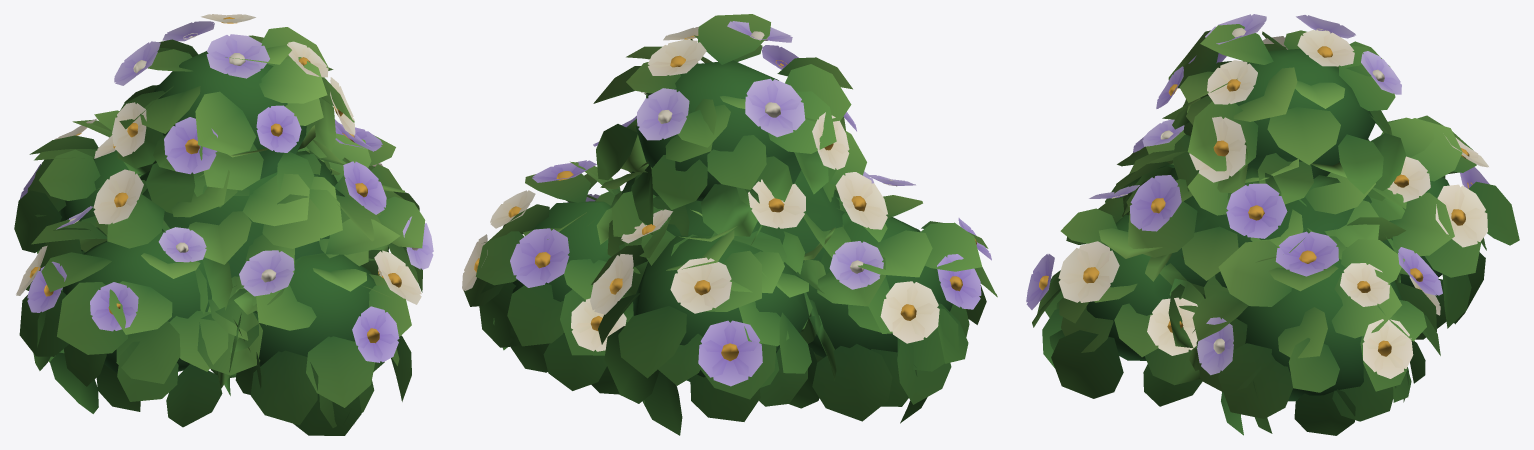
Rendered from bush_flower_b.glb.
3 views of the same model, side by side, from view 1: azimuth 30°, elevation 25°; view 2: azimuth 150°, elevation 25°; view 3: azimuth 270°, elevation 25° (orthographic). The views are drawn at different scales.
Parts seen in each view (by area): view 1: bush_flower_b; view 2: bush_flower_b; view 3: bush_flower_b.
Boxes of the visible parts, box(x1,y1,x2,y2) form: bush_flower_b: box(14, 14, 433, 435); bush_flower_b: box(462, 14, 997, 435); bush_flower_b: box(1026, 14, 1519, 435).
Size of the model in its own units: 1.46 by 1.15 by 1.45.
